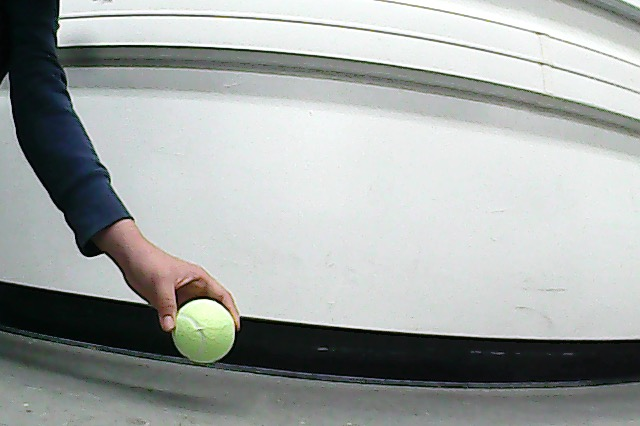ball: (170, 295, 239, 367)
